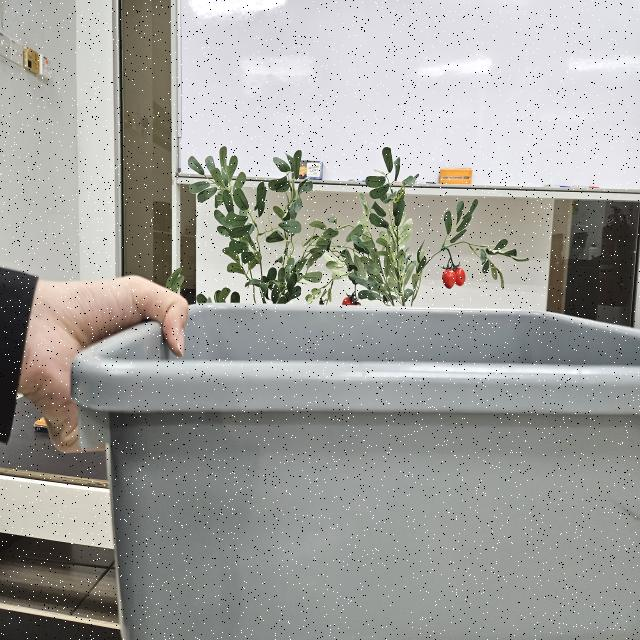Obstacle: (69, 304, 640, 640)
Tomato: (440, 258, 466, 289)
plant: (305, 147, 479, 307), (187, 147, 340, 305), (462, 239, 529, 289)
